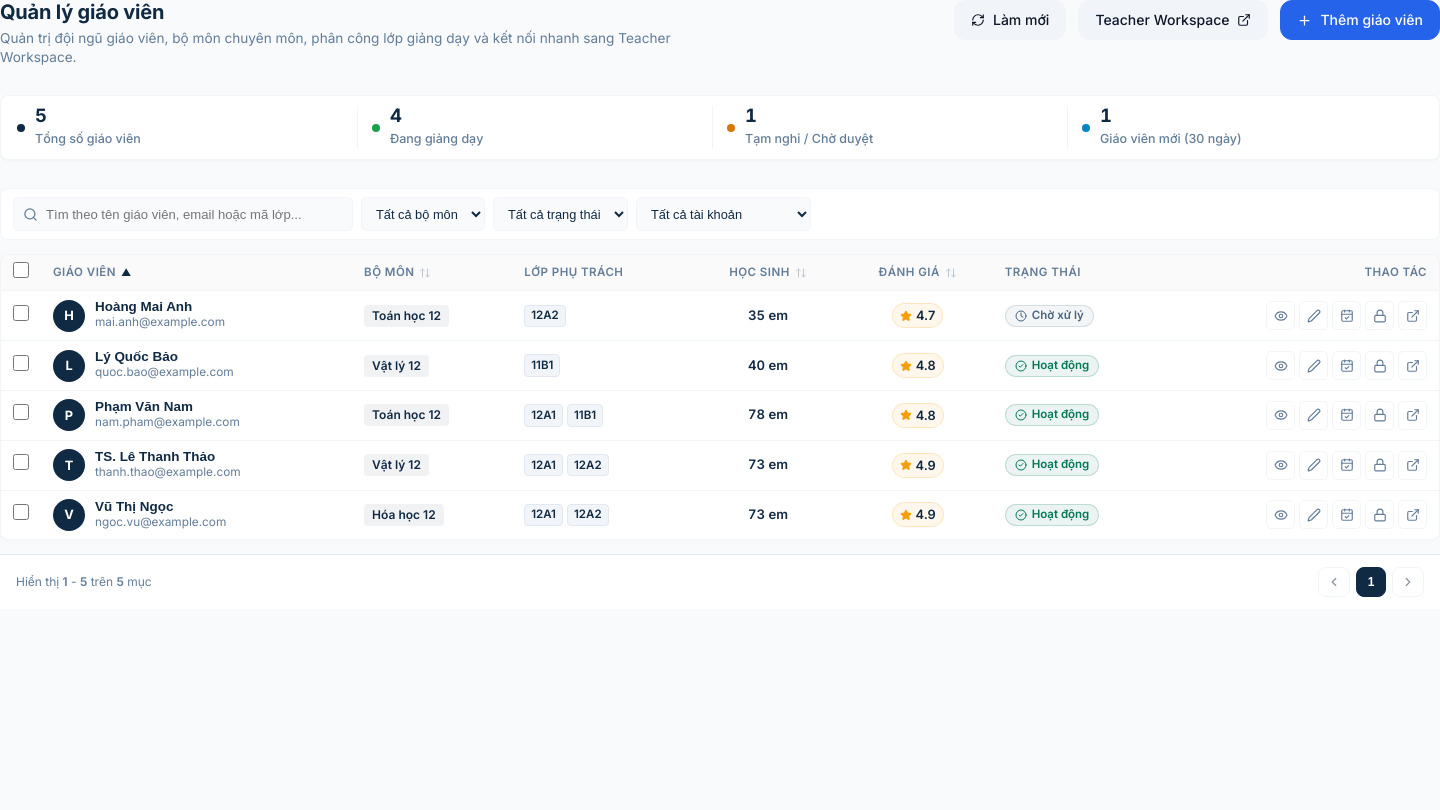
AdminTeachersPage — ZhongWenHub Architecture Suite › 5. Changes teaching status and locks/unlocks teacher account with confirmation
Expected: the button "Phạm Văn Nam" is shown, [95,399,240,414]
Open change status modal for Phạm Văn Nam
Click the button named "Đổi trạng thái Phạm Văn Nam" at (1346, 415), box [1332,401,1361,430]
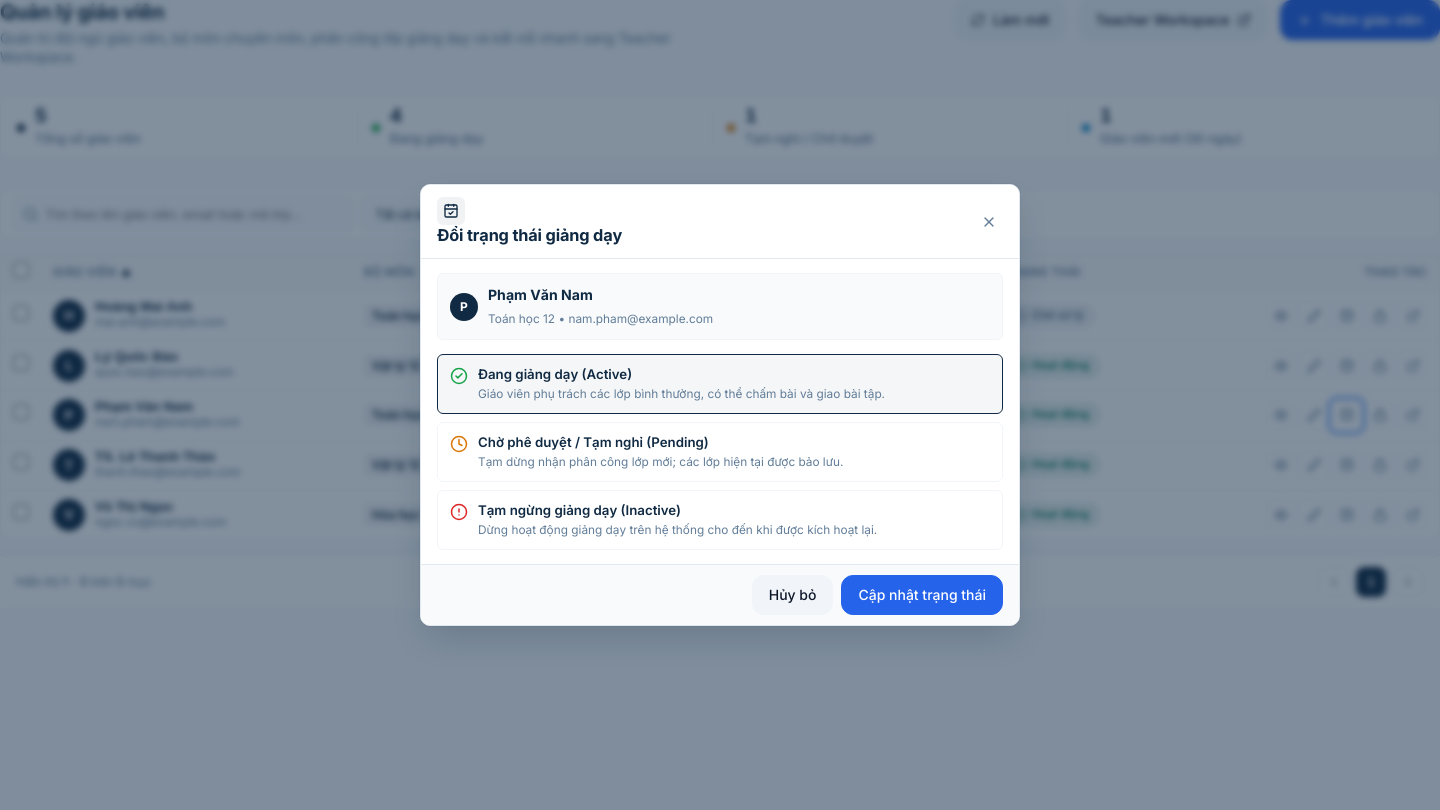
Expected: the heading "Đổi trạng thái giảng dạy" is shown, [437,225,622,246]
Select "Tạm ngừng giảng dạy (Inactive)"
Click the radio button labelled "Tạm ngừng giảng dạy (Inactive)" at (720, 520), box [437,490,1003,550]
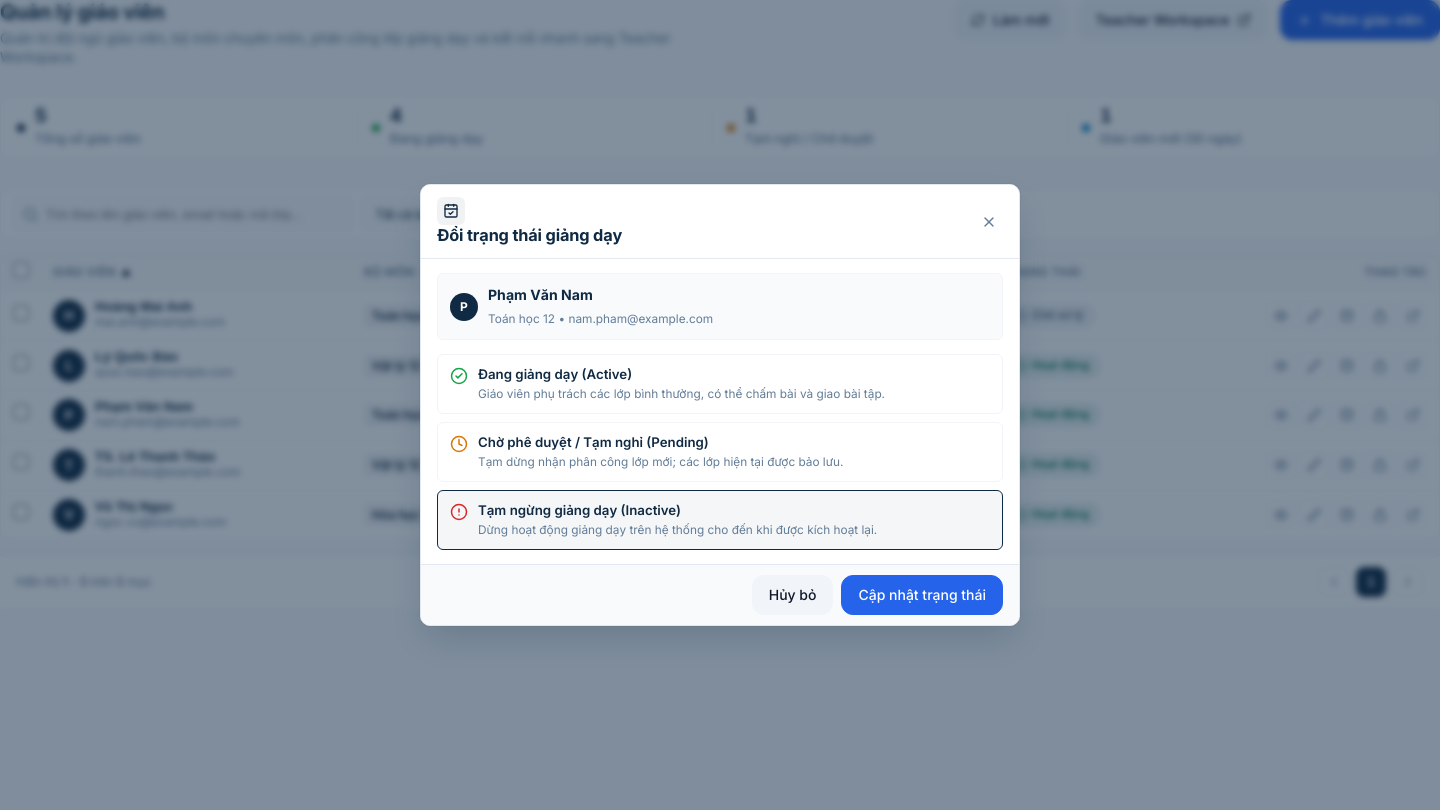
Click the button "Cập nhật trạng thái" at (922, 595), box [842,575,1003,615]
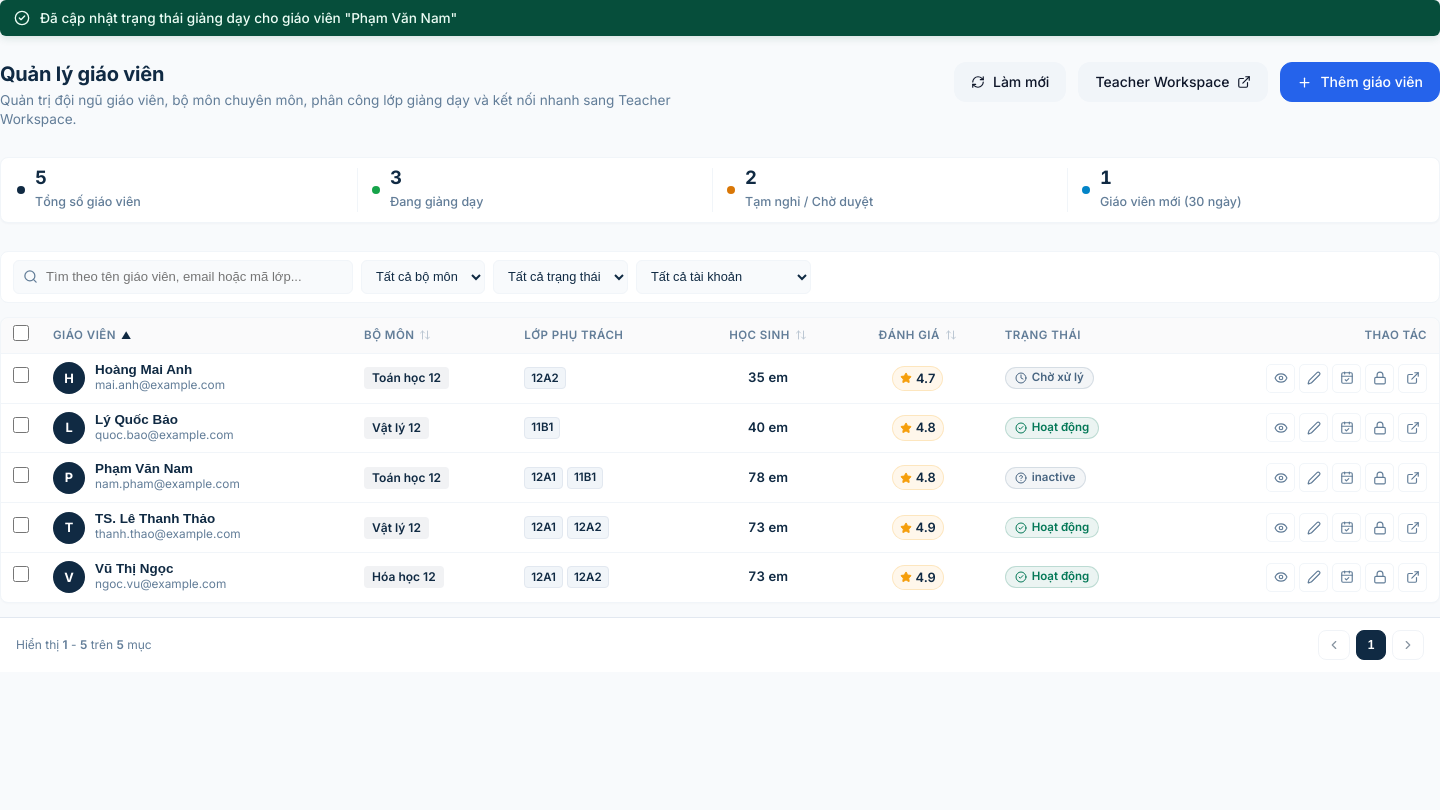
Open lock account confirm dialog
Click the button named "Khóa Phạm Văn Nam" at (1380, 478), box [1365,463,1394,492]
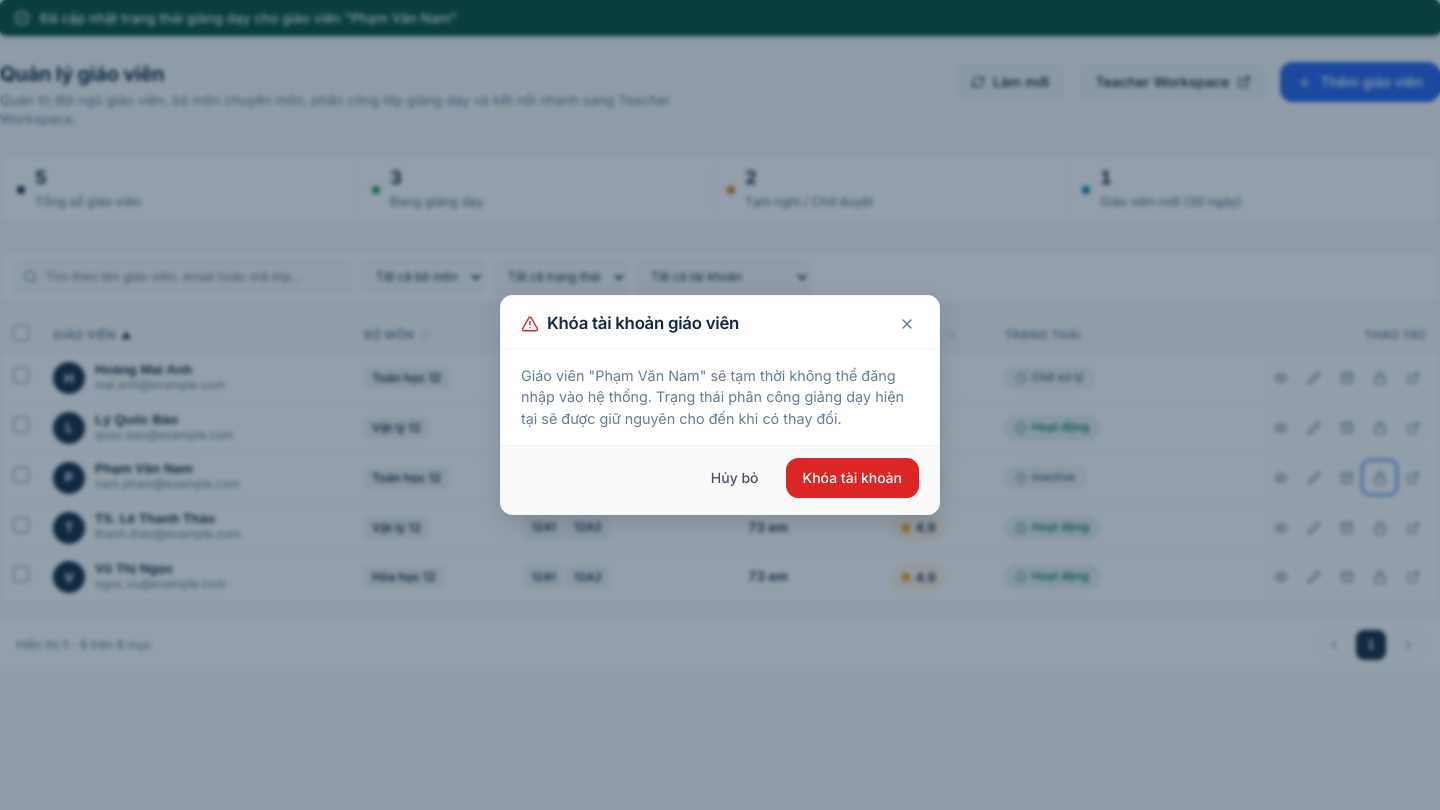
Expected: the heading "Khóa tài khoản giáo viên" is shown, [547,313,739,334]
Click the button "Khóa tài khoản" at (852, 478), box [786,458,919,498]
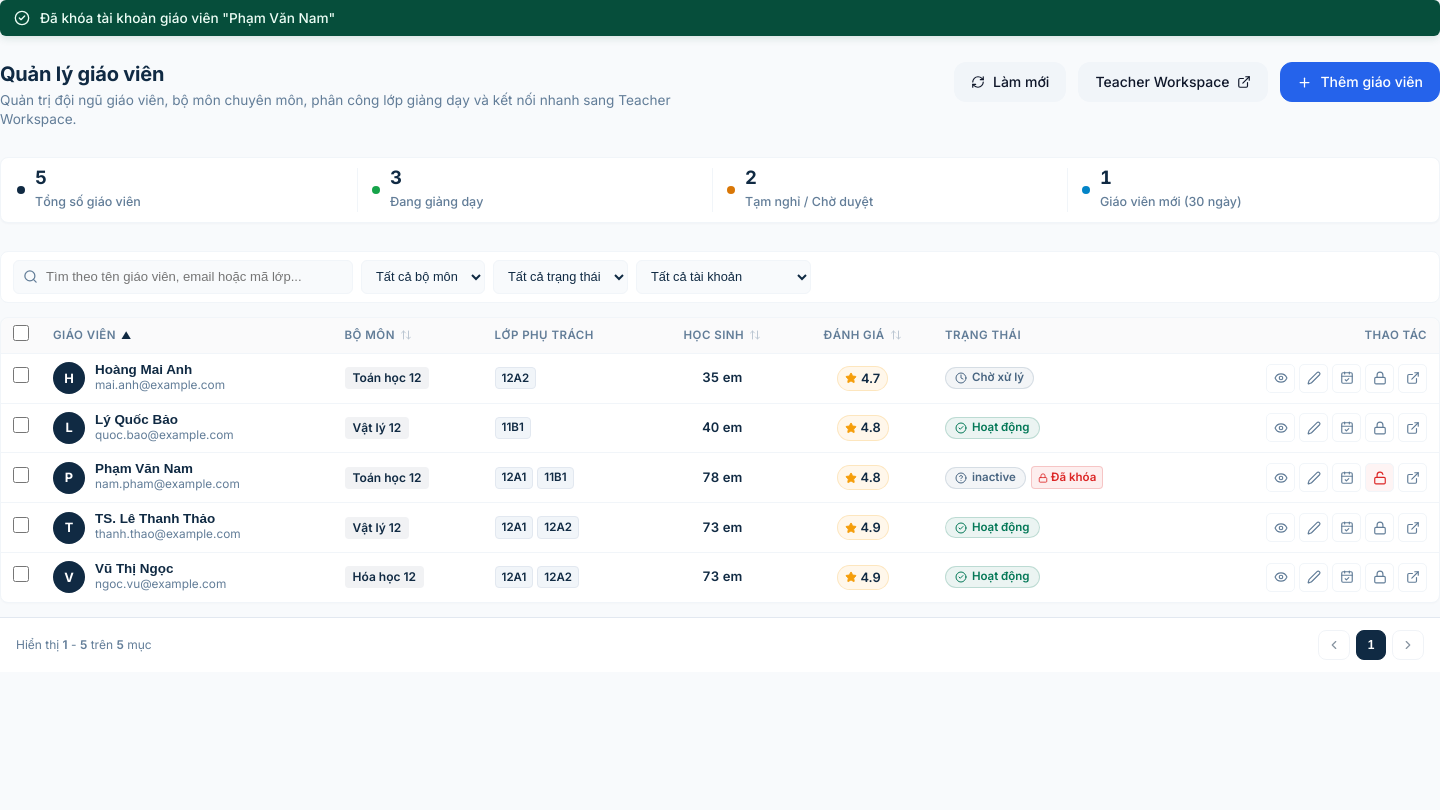
Expected: the text "Đã khóa" is shown, [1051,469,1096,486]
